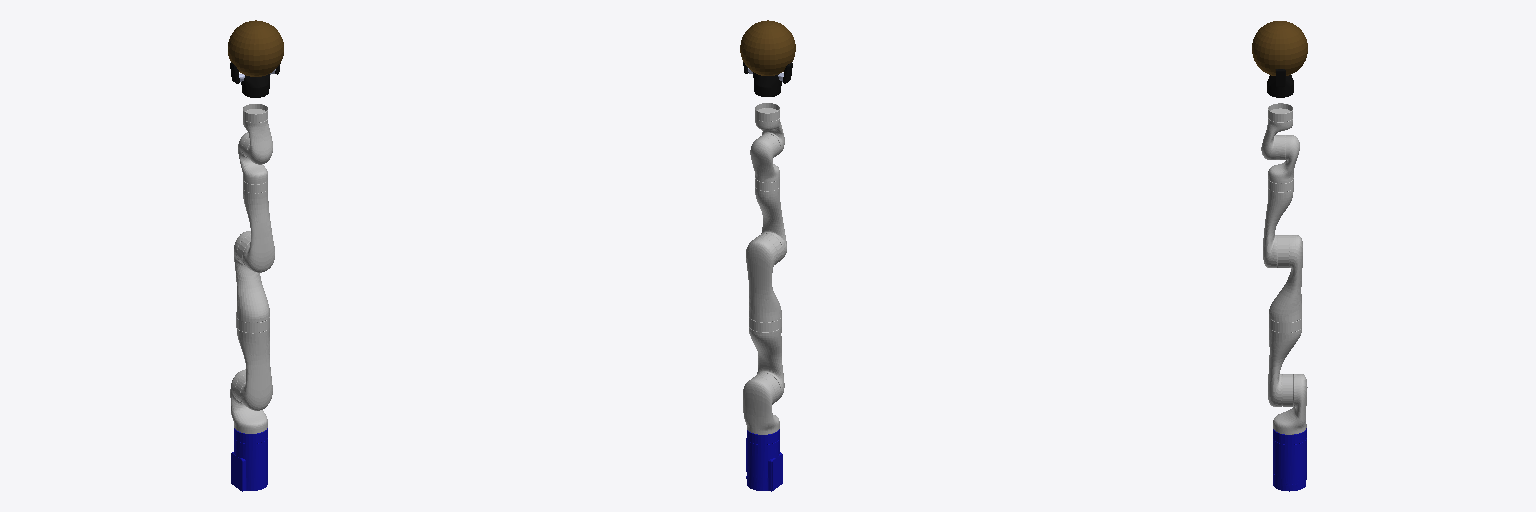
--- Render facts (derived) ---
The picture shows the robot from 3 angles, left to right: view 1: azimuth 30°, elevation 25°; view 2: azimuth 150°, elevation 25°; view 3: azimuth 270°, elevation 25°; orthographic projection.
Model gen3_robotiq_2f_85 with 27 links and 26 joints (7 revolute, 19 fixed), rooted at world, posed all joints at 0.
Links seen in each view (by area): view 1: half_arm_1_link, can, forearm_link, base_link, half_arm_2_link, spherical_wrist_2_link, shoulder_link, spherical_wrist_1_link, robotiq_arg2f_base_link; view 2: half_arm_2_link, can, base_link, shoulder_link, half_arm_1_link, forearm_link, spherical_wrist_1_link, spherical_wrist_2_link, robotiq_arg2f_base_link; view 3: can, half_arm_2_link, base_link, half_arm_1_link, shoulder_link, forearm_link, spherical_wrist_1_link, spherical_wrist_2_link.
Boxes of the visible links, bbox=[...] form: half_arm_1_link: bbox=[236, 316, 272, 410]; can: bbox=[228, 20, 283, 76]; forearm_link: bbox=[243, 181, 274, 272]; base_link: bbox=[231, 428, 267, 491]; half_arm_2_link: bbox=[234, 231, 269, 322]; spherical_wrist_2_link: bbox=[243, 104, 272, 164]; shoulder_link: bbox=[230, 369, 267, 433]; spherical_wrist_1_link: bbox=[238, 132, 267, 184]; robotiq_arg2f_base_link: bbox=[241, 74, 269, 97]; half_arm_2_link: bbox=[746, 233, 782, 322]; can: bbox=[740, 20, 795, 75]; base_link: bbox=[746, 429, 782, 491]; shoulder_link: bbox=[743, 373, 780, 434]; half_arm_1_link: bbox=[749, 317, 784, 398]; forearm_link: bbox=[755, 178, 786, 261]; spherical_wrist_1_link: bbox=[750, 134, 780, 182]; spherical_wrist_2_link: bbox=[755, 103, 784, 154]; robotiq_arg2f_base_link: bbox=[753, 72, 781, 96]; can: bbox=[1252, 21, 1307, 75]; half_arm_2_link: bbox=[1269, 235, 1302, 322]; base_link: bbox=[1273, 428, 1306, 491]; half_arm_1_link: bbox=[1268, 318, 1301, 406]; shoulder_link: bbox=[1273, 374, 1307, 434]; forearm_link: bbox=[1263, 178, 1293, 267]; spherical_wrist_1_link: bbox=[1268, 135, 1299, 183]; spherical_wrist_2_link: bbox=[1261, 103, 1292, 159].
Bounding box of the posed robot: 0.155 × 0.155 × 1.4 m (x, y, z).
Meshes: 13 distinct files referenced, 16 mesh visuals loaded (12 OBJ); not drawn: 1 (reference not matched to a file when rendering).

URDF robot description (gen3_robotiq_2f_85):
<?xml version="1.0" encoding="utf-8"?>
<!-- =================================================================================== -->
<!-- |    This document was autogenerated by xacro from gen3_robotiq_2f_85.xacro       | -->
<!-- |    EDITING THIS FILE BY HAND IS NOT RECOMMENDED                                 | -->
<!-- =================================================================================== -->
<robot name="gen3_robotiq_2f_85">
  <!-- Run the macros -->
  <link name="world"/>

  <link name="obstacles">
    <collision name="wall">
      <origin rpy="0 0 0" xyz="0.735 0.25 0.16"/>
      <geometry><box size="0.05 2.535 1.76"/></geometry>
    </collision>

    <collision name="table">
      <origin rpy="0 0 0" xyz="-0.29 -0.0275 -0.02"/>
      <geometry><box size="0.76 1.525 0.04"/></geometry>
    </collision>

    <collision name="table_leg_bl">
      <origin rpy="0 0 0" xyz="-0.59 0.67 -0.37"/>
      <geometry>
        <cylinder length='0.7' radius='0.02'/>
      </geometry>
    </collision>

    <collision name="table_leg_br">
      <origin rpy="0 0 0" xyz="-0.59 -0.725 -0.37"/>
      <geometry>
        <cylinder length='0.7' radius='0.02'/>
      </geometry>
    </collision>

    <collision name="table_leg_fl">
      <origin rpy="0 0 0" xyz="0.0 0.67 -0.37"/>
      <geometry>
        <cylinder length='0.7' radius='0.02'/>
      </geometry>
    </collision>

    <collision name="table_leg_fr">
      <origin rpy="0 0 0" xyz="0.0 -0.725 -0.37"/>
      <geometry>
        <cylinder length='0.7' radius='0.02'/>
      </geometry>
    </collision>

    <collision name="desk">
      <origin rpy="0 0 0" xyz="0.4 1.055 -0.36"/>
      <geometry><box size="0.62 1.25 0.72"/></geometry>
    </collision>

    <collision name="vice">
      <origin rpy="0 0 0" xyz="0 0 0.009"/>
      <geometry>
        <cylinder length='0.018' radius='0.0725'/>
      </geometry>
    </collision>

    <collision name="cab_back">
      <origin rpy="0 0 0" xyz="0.69 -0.6425 0.11"/>
      <geometry><box size="0.04 0.915 1.66"/></geometry>
    </collision>

    <collision name="cab_left">
      <origin rpy="0 0 0" xyz="0.52 -0.1975 0.11"/>
      <geometry><box size="0.38 0.025 1.66"/></geometry>
    </collision>

    <collision name="cab_right">
      <origin rpy="0 0 0" xyz="0.52 -1.0875 0.11"/>
      <geometry><box size="0.38 0.025 1.66"/></geometry>
    </collision>

    <collision name="cab_top">
      <origin rpy="0 0 0" xyz="0.52 -0.6425 0.9275"/>
      <geometry><box size="0.38 0.915 0.025"/></geometry>
    </collision>

    <collision name="shelf_1">
      <origin rpy="0 0 0" xyz="0.53 -0.6425 0.6375"/>
      <geometry><box size="0.36 0.915 0.025"/></geometry>
    </collision>

    <collision name="shelf_2">
      <origin rpy="0 0 0" xyz="0.53 -0.6425 0.3375"/>
      <geometry><box size="0.36 0.915 0.025"/></geometry>
    </collision>

    <collision name="shelf_3">
      <origin rpy="0 0 0" xyz="0.53 -0.6425 0.0375"/>
      <geometry><box size="0.36 0.915 0.025"/></geometry>
    </collision>

    <collision name="shelf_4">
      <origin rpy="0 0 0" xyz="0.53 -0.6425 -0.2625"/>
      <geometry><box size="0.36 0.915 0.025"/></geometry>
    </collision>

    <collision name="cab_bottom">
      <origin rpy="0 0 0" xyz="0.52 -0.6425 -0.7"/>
      <geometry><box size="0.38 0.915 0.04"/></geometry>
    </collision>
  </link>

  <joint name="world_to_obstacles" type="fixed">
    <parent link="world"/>
    <child link="obstacles"/>
    <origin xyz="0 0 0" rpy="0 0 0"/>
  </joint>

  <link name="base_link">
    <inertial>
      <origin rpy="0 0 0" xyz="-0.000648 -0.000166 0.084487"/>
      <mass value="1.697"/>
      <inertia ixx="0.004622" ixy="9E-06" ixz="6E-05" iyy="0.004495" iyz="9E-06" izz="0.002079"/>
    </inertial>
    <visual>
      <origin rpy="0 0 0" xyz="0 0 0"/>
      <geometry>
        <mesh filename="./meshes/base_link.obj"/>
      </geometry>
      <material name="a">
        <color rgba="0.1 0.1 0.7 1"/>
      </material>
    </visual>
    <collision>
      <origin rpy="0 0 0" xyz="0 0 0"/>
      <geometry>
        <mesh filename="./meshes/base_link.obj"/>
      </geometry>
    </collision>
  </link>

  <joint name="world_to_base" type="fixed">
    <parent link="world"/>
    <child link="base_link"/>
    <origin xyz="0 0 0.02" rpy="0 0 0"/>
  </joint>

  <link name="shoulder_link">
    <inertial>
      <origin rpy="0 0 0" xyz="-2.3E-05 -0.010364 -0.07336"/>
      <mass value="1.3773"/>
      <inertia ixx="0.00457" ixy="1E-06" ixz="2E-06" iyy="0.004831" iyz="0.000448" izz="0.001409"/>
    </inertial>
    <visual>
      <origin rpy="0 0 0" xyz="0 0 0"/>
      <geometry>
        <mesh filename="./meshes/shoulder_link.obj"/>
      </geometry>
      <material name="b">
        <color rgba="0.752 0.752 0.75294 1"/>
      </material>
    </visual>
    <collision>
      <origin rpy="0 0 0" xyz="0 0 0"/>
      <geometry>
        <mesh filename="./meshes/shoulder_link.obj"/>
      </geometry>
    </collision>
  </link>
  <joint name="joint_1" type="revolute">
    <origin rpy="3.1416 2.7629E-18 -4.9305E-36" xyz="0 0 0.15643"/>
    <parent link="base_link"/>
    <child link="shoulder_link"/>
    <axis xyz="0 0 1"/>
    <limit effort="39" velocity="1.3963" lower="-3.1415" upper="3.1415"/>
  </joint>
  <link name="half_arm_1_link">
    <inertial>
      <origin rpy="0 0 0" xyz="-4.4E-05 -0.09958 -0.013278"/>
      <mass value="1.1636"/>
      <inertia ixx="0.011088" ixy="5E-06" ixz="0" iyy="0.001072" iyz="-0.000691" izz="0.011255"/>
    </inertial>
    <visual>
      <origin rpy="0 0 0" xyz="0 0 0"/>
      <geometry>
        <mesh filename="./meshes/half_arm_1_link.obj"/>
      </geometry>
      <material name="c">
        <color rgba="0.75294 0.75294 0.75294 1"/>
      </material>
    </visual>
    <collision>
      <origin rpy="0 0 0" xyz="0 0 0"/>
      <geometry>
        <mesh filename="./meshes/half_arm_1_link.obj"/>
      </geometry>
    </collision>
  </link>
  <joint name="joint_2" type="revolute">
    <origin rpy="1.5708 2.1343E-17 -1.1102E-16" xyz="0 0.005375 -0.12838"/>
    <parent link="shoulder_link"/>
    <child link="half_arm_1_link"/>
    <axis xyz="0 0 1"/>
    <limit effort="39" velocity="1.3963" lower="-2.24973" upper="2.24973"/>
  </joint>
  <link name="half_arm_2_link">
    <inertial>
      <origin rpy="0 0 0" xyz="-4.4E-05 -0.006641 -0.117892"/>
      <mass value="1.1636"/>
      <inertia ixx="0.010932" ixy="0" ixz="-7E-06" iyy="0.011127" iyz="0.000606" izz="0.001043"/>
    </inertial>
    <visual>
      <origin rpy="0 0 0" xyz="0 0 0"/>
      <geometry>
        <mesh filename="./meshes/half_arm_2_link.obj"/>
      </geometry>
      <material name="d">
        <color rgba="0.75294 0.75294 0.75294 1"/>
      </material>
    </visual>
    <collision>
      <origin rpy="0 0 0" xyz="0 0 0"/>
      <geometry>
        <mesh filename="./meshes/half_arm_2_link.obj"/>
      </geometry>
    </collision>
  </link>
  <joint name="joint_3" type="revolute">
    <origin rpy="-1.5708 1.2326E-32 -2.9122E-16" xyz="0 -0.21038 -0.006375"/>
    <parent link="half_arm_1_link"/>
    <child link="half_arm_2_link"/>
    <axis xyz="0 0 1"/>
    <limit effort="39" velocity="1.3963" lower="-3.1415" upper="3.1415"/>
  </joint>
  <link name="forearm_link">
    <inertial>
      <origin rpy="0 0 0" xyz="-1.8E-05 -0.075478 -0.015006"/>
      <mass value="0.9302"/>
      <inertia ixx="0.008147" ixy="-1E-06" ixz="0" iyy="0.000631" iyz="-0.0005" izz="0.008316"/>
    </inertial>
    <visual>
      <origin rpy="0 0 0" xyz="0 0 0"/>
      <geometry>
        <mesh filename="./meshes/forearm_link.obj"/>
      </geometry>
      <material name="e">
        <color rgba="0.75294 0.75294 0.75294 1"/>
      </material>
    </visual>
    <collision>
      <origin rpy="0 0 0" xyz="0 0 0"/>
      <geometry>
        <mesh filename="./meshes/forearm_link.obj"/>
      </geometry>
    </collision>
  </link>
  <joint name="joint_4" type="revolute">
    <origin rpy="1.5708 -6.6954E-17 -1.6653E-16" xyz="0 0.006375 -0.21038"/>
    <parent link="half_arm_2_link"/>
    <child link="forearm_link"/>
    <axis xyz="0 0 1"/>
    <limit effort="39" velocity="1.3963" lower="-2.5796" upper ="2.5796"/>
  </joint>
  <link name="spherical_wrist_1_link">
    <inertial>
      <origin rpy="0 0 0" xyz="1E-06 -0.009432 -0.063883"/>
      <mass value="0.6781"/>
      <inertia ixx="0.001596" ixy="0" ixz="0" iyy="0.001607" iyz="0.000256" izz="0.000399"/>
    </inertial>
    <visual>
      <origin rpy="0 0 0" xyz="0 0 0"/>
      <geometry>
        <mesh filename="./meshes/spherical_wrist_1_link.obj"/>
      </geometry>
      <material name="f">
        <color rgba="0.75294 0.75294 0.75294 1"/>
      </material>
    </visual>
    <collision>
      <origin rpy="0 0 0" xyz="0 0 0"/>
      <geometry>
        <mesh filename="./meshes/spherical_wrist_1_link.obj"/>
      </geometry>
    </collision>
  </link>
  <joint name="joint_5" type="revolute">
    <origin rpy="-1.5708 2.2204E-16 -6.373E-17" xyz="0 -0.20843 -0.006375"/>
    <parent link="forearm_link"/>
    <child link="spherical_wrist_1_link"/>
    <axis xyz="0 0 1"/>
    <limit effort="9" velocity="1.2218" lower="-3.1415" upper="3.1415"/>
  </joint>
  <link name="spherical_wrist_2_link">
    <inertial>
      <origin rpy="0 0 0" xyz="1E-06 -0.045483 -0.00965"/>
      <mass value="0.6781"/>
      <inertia ixx="0.001641" ixy="0" ixz="0" iyy="0.00041" iyz="-0.000278" izz="0.001641"/>
    </inertial>
    <visual>
      <origin rpy="0 0 0" xyz="0 0 0"/>
      <geometry>
        <mesh filename="./meshes/spherical_wrist_2_link.obj"/>
      </geometry>
      <material name="g">
        <color rgba="0.75294 0.75294 0.75294 1"/>
      </material>
    </visual>
    <collision>
      <origin rpy="0 0 0" xyz="0 0 0"/>
      <geometry>
        <mesh filename="./meshes/spherical_wrist_2_link.obj"/>
      </geometry>
    </collision>
  </link>
  <joint name="joint_6" type="revolute">
    <origin rpy="1.5708 9.2076E-28 -8.2157E-15" xyz="0 0.00017505 -0.10593"/>
    <parent link="spherical_wrist_1_link"/>
    <child link="spherical_wrist_2_link"/>
    <axis xyz="0 0 1"/>
    <limit effort="9" velocity="1.2218" lower="-2.0996" upper="2.0996"/>
  </joint>
  <link name="bracelet_link">
    <inertial>
      <origin rpy="0 0 0" xyz="0.000281 0.011402 -0.029798"/>
      <mass value="0.5"/>
      <inertia ixx="0.000587" ixy="3E-06" ixz="3E-06" iyy="0.000369" iyz="-0.000118" izz="0.000609"/>
    </inertial>
    <visual>
      <origin rpy="0 0 0" xyz="0 0 0"/>
      <geometry>
        <mesh filename="./meshes/bracelet_with_vision_link.obj"/>
      </geometry>
      <material name="h">
        <color rgba="0.75294 0.75294 0.75294 1"/>
      </material>
    </visual>
    <collision>
      <origin rpy="0 0 0" xyz="0 0 0"/>
      <geometry>
        <mesh filename="./meshes/bracelet_with_vision_link.obj"/>
      </geometry>
    </collision>
  </link>
  <joint name="joint_7" type="revolute">
    <origin rpy="-1.5708 -5.5511E-17 9.6396E-17" xyz="0 -0.10593 -0.00017505"/>
    <parent link="spherical_wrist_2_link"/>
    <child link="bracelet_link"/>
    <axis xyz="0 0 1"/>
    <limit effort="9" velocity="1.2218" lower="-3.1415" upper="3.1415"/>
  </joint>
  <link name="end_effector_link"/>
  <joint name="end_effector" type="fixed">
    <origin rpy="3.14159265358979 1.09937075168372E-32 0" xyz="0 0 -0.0615250000000001"/>
    <parent link="bracelet_link"/>
    <child link="end_effector_link"/>
    <axis xyz="0 0 0"/>
  </joint>
  <link name="camera_link"/>
  <joint name="camera_module" type="fixed">
    <origin rpy="3.14159265358979 3.14159265358979 0" xyz="0 0.05639 -0.00305"/>
    <parent link="end_effector_link"/>
    <child link="camera_link"/>
  </joint>
  <link name="camera_depth_frame"/>
  <joint name="depth_module" type="fixed">
    <origin rpy="3.14159265358979 3.14159265358979 0" xyz="0.0275 0.066 -0.00305"/>
    <parent link="end_effector_link"/>
    <child link="camera_depth_frame"/>
  </joint>
  <link name="camera_color_frame"/>
  <joint name="color_module" type="fixed">
    <origin rpy="3.14159265358979 3.14159265358979 0" xyz="0 0.05639 -0.00305"/>
    <parent link="end_effector_link"/>
    <child link="camera_color_frame"/>
  </joint>
  <!-- This line was removed by Kinova because we replaced the transmission file with our own 
    <xacro:include filename="$(find robotiq_2f_85_gripper_visualization)/urdf/robotiq_arg2f_transmission.xacro" /> -->
  <!-- Tool frame used by the arm -->
  <link name="tool_frame"/>
  <joint name="tool_frame_joint" type="fixed">
    <origin rpy="0 0 0" xyz="0 0 0.120"/>
    <parent link="end_effector_link"/>
    <child link="tool_frame"/>
    <axis xyz="0 0 0"/>
  </joint>
  <!-- This joint was added by Kinova -->
  <joint name="gripper_base_joint" type="fixed">
    <parent link="end_effector_link"/>
    <child link="robotiq_arg2f_base_link"/>
    <origin rpy="0.0 0.0 1.57" xyz="0.0 0.0 0.0"/>
  </joint>
  <link name="robotiq_arg2f_base_link">
    <inertial>
      <origin rpy="0 0 0" xyz="8.625E-08 -4.6583E-06 0.03145"/>
      <mass value="0.22652"/>
      <inertia ixx="0.00020005" ixy="-4.2442E-10" ixz="-2.9069E-10" iyy="0.00017832" iyz="-3.4402E-08" izz="0.00013478"/>
    </inertial>
    <visual>
      <origin rpy="0 0 0" xyz="0 0 0"/>
      <geometry>
        <!-- The OBJ file doesn't show well in Gazebo so we're using the obj instead -->
        <!-- <mesh filename="./meshes/visual/robotiq_arg2f_85_base_link.obj" scale="0.001 0.001 0.001"/> -->
        <mesh filename="./meshes/collision/robotiq_arg2f_base_link.obj"/>
      </geometry>
      <material name="i">
        <color rgba="0.1 0.1 0.1 1"/>
      </material>
    </visual>
    <collision>
      <origin rpy="0 0 0" xyz="0 0 0"/>
      <geometry>
        <mesh filename="./meshes/collision/robotiq_arg2f_base_link.obj"/>
      </geometry>
    </collision>
  </link>
  <link name="can">
    <visual>
      <origin rpy="0 0 0" xyz="0 0.02 -0.02"/>
      <geometry>
        <sphere radius='0.0775'/>
      </geometry>
      <material name="brown">
        <color rgba="0.4 0.3 0.15 1"/>
      </material>
    </visual>
    <collision>
      <origin rpy="0 0 0" xyz="0 0.02 -0.02"/>
      <geometry>
        <sphere radius='0.0775'/>
      </geometry>
    </collision>
  </link>
  <!--gazebo reference="robotiq_arg2f_base_link">
    <material>Gazebo/Black</material>
  </gazebo-->
  <link name="left_outer_knuckle">
    <inertial>
      <origin rpy="0 0 0" xyz="-0.000200000000003065 0.0199435877845359 0.0292245259211331"/>
      <mass value="0.00853198276973456"/>
      <inertia ixx="2.89328108496468E-06" ixy="-1.57935047237397E-19" ixz="-1.93980378593255E-19" iyy="1.86719750325683E-06" iyz="-1.21858577871576E-06" izz="1.21905238907251E-06"/>
    </inertial>
    <visual>
      <origin rpy="0 0 0" xyz="0 0 0"/>
      <geometry>
        <mesh filename="./meshes/visual/robotiq_arg2f_85_outer_knuckle.obj" scale="0.001 0.001 0.001"/>
      </geometry>
      <material name="j">
        <color rgba="0.792156862745098 0.819607843137255 0.933333333333333 1"/>
      </material>
    </visual>
    <collision>
      <origin rpy="0 0 0" xyz="0 0 0"/>
      <geometry>
        <mesh filename="./meshes/collision/robotiq_arg2f_85_outer_knuckle.obj" scale="0.001 0.001 0.001"/>
      </geometry>
    </collision>
  </link>
  <link name="left_outer_finger">
    <inertial>
      <origin rpy="0 0 0" xyz="0.00030115855001899 0.0373907951953854 -0.0208027427000385"/>
      <mass value="0.022614240507152"/>
      <inertia ixx="1.52518312458174E-05" ixy="9.76583423954399E-10" ixz="-5.43838577022588E-10" iyy="6.17694243867776E-06" iyz="6.78636130740228E-06" izz="1.16494917907219E-05"/>
    </inertial>
    <visual>
      <origin rpy="0 0 0" xyz="0 0 0"/>
      <geometry>
        <mesh filename="./meshes/visual/robotiq_arg2f_85_outer_finger.obj" scale="0.001 0.001 0.001"/>
      </geometry>
      <material name="k">
        <color rgba="0.1 0.1 0.1 1"/>
      </material>
    </visual>
    <collision>
      <origin rpy="0 0 0" xyz="0 0 0"/>
      <geometry>
        <mesh filename="./meshes/collision/robotiq_arg2f_85_outer_finger.obj" scale="0.001 0.001 0.001"/>
      </geometry>
    </collision>
  </link>
  <link name="left_inner_finger">
    <inertial>
      <origin rpy="0 0 0" xyz="0.000299999999999317 0.0160078233491243 -0.0136945669206257"/>
      <mass value="0.0104003125914103"/>
      <inertia ixx="2.71909453810972E-06" ixy="1.35402465472579E-21" ixz="-7.1817349065269E-22" iyy="7.69100314106116E-07" iyz="6.74715432769696E-07" izz="2.30315190420171E-06"/>
    </inertial>
    <visual>
      <origin rpy="0 0 0" xyz="0 0 0"/>
      <geometry>
        <mesh filename="./meshes/visual/robotiq_arg2f_85_inner_finger.obj" scale="0.001 0.001 0.001"/>
      </geometry>
      <material name="l">
        <color rgba="0.1 0.1 0.1 1"/>
      </material>
    </visual>
    <collision>
      <origin rpy="0 0 0" xyz="0 0 0"/>
      <geometry>
        <mesh filename="./meshes/collision/robotiq_arg2f_85_inner_finger.obj" scale="0.001 0.001 0.001"/>
      </geometry>
    </collision>
  </link>
  <link name="left_inner_finger_pad">
    <visual>
      <origin rpy="0 0 0" xyz="0 0 0"/>
      <geometry>
        <box size="0.022 0.00635 0.0375"/>
      </geometry>
      <material name="m">
        <color rgba="0.9 0.9 0.9 1"/>
      </material>
    </visual>
    <collision>
      <origin rpy="0 0 0" xyz="0 0 0"/>
      <geometry>
        <box size="0.022 0.00635 0.0375"/>
      </geometry>
      <material name="n">
        <color rgba="0.9 0.0 0.0 1"/>
      </material>
    </collision>
  </link>
  <link name="left_inner_knuckle">
    <inertial>
      <origin rpy="0 0 0" xyz="0.000123011831763771 0.0507850843201817 0.00103968640075166"/>
      <mass value="0.0271177346495152"/>
      <inertia ixx="2.61910379223783E-05" ixy="-2.43616858946494E-07" ixz="-6.37789906117123E-09" iyy="2.8270243746167E-06" iyz="-5.37200748039765E-07" izz="2.83695868220296E-05"/>
    </inertial>
    <visual>
      <origin rpy="0 0 0" xyz="0 0 0"/>
      <geometry>
        <mesh filename="./meshes/visual/robotiq_arg2f_85_inner_knuckle.obj" scale="0.001 0.001 0.001"/>
      </geometry>
      <material name="n">
        <color rgba="0.1 0.1 0.1 1"/>
      </material>
    </visual>
    <collision>
      <origin rpy="0 0 0" xyz="0 0 0"/>
      <geometry>
        <mesh filename="./meshes/collision/robotiq_arg2f_85_inner_knuckle.obj" scale="0.001 0.001 0.001"/>
      </geometry>
    </collision>
  </link>
  <link name="right_outer_knuckle">
    <inertial>
      <origin rpy="0 0 0" xyz="-0.000200000000003065 0.0199435877845359 0.0292245259211331"/>
      <mass value="0.00853198276973456"/>
      <inertia ixx="2.89328108496468E-06" ixy="-1.57935047237397E-19" ixz="-1.93980378593255E-19" iyy="1.86719750325683E-06" iyz="-1.21858577871576E-06" izz="1.21905238907251E-06"/>
    </inertial>
    <visual>
      <origin rpy="0 0 0" xyz="0 0 0"/>
      <geometry>
        <mesh filename="./meshes/visual/robotiq_arg2f_85_outer_knuckle.obj" scale="0.001 0.001 0.001"/>
      </geometry>
      <material name="o">
        <color rgba="0.792156862745098 0.819607843137255 0.933333333333333 1"/>
      </material>
    </visual>
    <collision>
      <origin rpy="0 0 0" xyz="0 0 0"/>
      <geometry>
        <mesh filename="./meshes/collision/robotiq_arg2f_85_outer_knuckle.obj" scale="0.001 0.001 0.001"/>
      </geometry>
    </collision>
  </link>
  <link name="right_outer_finger">
    <inertial>
      <origin rpy="0 0 0" xyz="0.00030115855001899 0.0373907951953854 -0.0208027427000385"/>
      <mass value="0.022614240507152"/>
      <inertia ixx="1.52518312458174E-05" ixy="9.76583423954399E-10" ixz="-5.43838577022588E-10" iyy="6.17694243867776E-06" iyz="6.78636130740228E-06" izz="1.16494917907219E-05"/>
    </inertial>
    <visual>
      <origin rpy="0 0 0" xyz="0 0 0"/>
      <geometry>
        <mesh filename="./meshes/visual/robotiq_arg2f_85_outer_finger.obj" scale="0.001 0.001 0.001"/>
      </geometry>
      <material name="p">
        <color rgba="0.1 0.1 0.1 1"/>
      </material>
    </visual>
    <collision>
      <origin rpy="0 0 0" xyz="0 0 0"/>
      <geometry>
        <mesh filename="./meshes/collision/robotiq_arg2f_85_outer_finger.obj" scale="0.001 0.001 0.001"/>
      </geometry>
    </collision>
  </link>
  <link name="right_inner_finger">
    <inertial>
      <origin rpy="0 0 0" xyz="0.000299999999999317 0.0160078233491243 -0.0136945669206257"/>
      <mass value="0.0104003125914103"/>
      <inertia ixx="2.71909453810972E-06" ixy="1.35402465472579E-21" ixz="-7.1817349065269E-22" iyy="7.69100314106116E-07" iyz="6.74715432769696E-07" izz="2.30315190420171E-06"/>
    </inertial>
    <visual>
      <origin rpy="0 0 0" xyz="0 0 0"/>
      <geometry>
        <mesh filename="./meshes/visual/robotiq_arg2f_85_inner_finger.obj" scale="0.001 0.001 0.001"/>
      </geometry>
      <material name="q">
        <color rgba="0.1 0.1 0.1 1"/>
      </material>
    </visual>
    <collision>
      <origin rpy="0 0 0" xyz="0 0 0"/>
      <geometry>
        <mesh filename="./meshes/collision/robotiq_arg2f_85_inner_finger.obj" scale="0.001 0.001 0.001"/>
      </geometry>
    </collision>
  </link>
  <link name="right_inner_finger_pad">
    <visual>
      <origin rpy="0 0 0" xyz="0 0 0"/>
      <geometry>
        <box size="0.022 0.00635 0.0375"/>
      </geometry>
      <material name="r">
        <color rgba="0.9 0.9 0.9 1"/>
      </material>
    </visual>
    <collision>
      <origin rpy="0 0 0" xyz="0 0 0"/>
      <geometry>
        <box size="0.022 0.00635 0.0375"/>
      </geometry>
      <material name="s">
        <color rgba="0.9 0.0 0.0 1"/>
      </material>
    </collision>
  </link>
  <link name="right_inner_knuckle">
    <inertial>
      <origin rpy="0 0 0" xyz="0.000123011831763771 0.0507850843201817 0.00103968640075166"/>
      <mass value="0.0271177346495152"/>
      <inertia ixx="2.61910379223783E-05" ixy="-2.43616858946494E-07" ixz="-6.37789906117123E-09" iyy="2.8270243746167E-06" iyz="-5.37200748039765E-07" izz="2.83695868220296E-05"/>
    </inertial>
    <visual>
      <origin rpy="0 0 0" xyz="0 0 0"/>
      <geometry>
        <mesh filename="./meshes/visual/robotiq_arg2f_85_inner_knuckle.obj" scale="0.001 0.001 0.001"/>
      </geometry>
      <material name="t">
        <color rgba="0.1 0.1 0.1 1"/>
      </material>
    </visual>
    <collision>
      <origin rpy="0 0 0" xyz="0 0 0"/>
      <geometry>
        <mesh filename="./meshes/collision/robotiq_arg2f_85_inner_knuckle.obj" scale="0.001 0.001 0.001"/>
      </geometry>
    </collision>
  </link>
  <joint name="finger_joint" type="fixed">
    <origin rpy="0 0 3.14159265359" xyz="0 -0.0306011 0.054904"/>
    <parent link="robotiq_arg2f_base_link"/>
    <child link="left_outer_knuckle"/>
    <axis xyz="1 0 0"/>
  </joint>
  <joint name="left_outer_finger_joint" type="fixed">
    <origin rpy="0 0 0" xyz="0 0.0315 -0.0041"/>
    <parent link="left_outer_knuckle"/>
    <child link="left_outer_finger"/>
    <axis xyz="1 0 0"/>
  </joint>
  <joint name="left_inner_knuckle_joint" type="fixed">
    <!-- <origin xyz="0 ${reflect * -0.0127} 0.06142" rpy="${pi / 2 + .725} 0 ${(reflect - 1) * pi / 2}" /> -->
    <origin rpy="0 0 3.14159265359" xyz="0 -0.0127 0.06142"/>
    <parent link="robotiq_arg2f_base_link"/>
    <child link="left_inner_knuckle"/>
    <axis xyz="1 0 0"/>
  </joint>
  <joint name="left_inner_finger_joint" type="fixed">
    <origin rpy="0 0 0" xyz="0 0.0061 0.0471"/>
    <parent link="left_outer_finger"/>
    <child link="left_inner_finger"/>
    <axis xyz="1 0 0"/>
  </joint>
  <joint name="left_inner_finger_pad_joint" type="fixed">
    <origin rpy="0 0 0" xyz="0 -0.0220203446692936 0.03242"/>
    <parent link="left_inner_finger"/>
    <child link="left_inner_finger_pad"/>
    <axis xyz="0 0 1"/>
  </joint>
  <joint name="right_outer_knuckle_joint" type="fixed">
    <origin rpy="0 0 0" xyz="0 0.0306011 0.054904"/>
    <parent link="robotiq_arg2f_base_link"/>
    <child link="right_outer_knuckle"/>
    <axis xyz="1 0 0"/>
  </joint>
  <joint name="right_outer_finger_joint" type="fixed">
    <origin rpy="0 0 0" xyz="0 0.0315 -0.0041"/>
    <parent link="right_outer_knuckle"/>
    <child link="right_outer_finger"/>
    <axis xyz="1 0 0"/>
  </joint>
  <joint name="right_inner_knuckle_joint" type="fixed">
    <!-- <origin xyz="0 ${reflect * -0.0127} 0.06142" rpy="${pi / 2 + .725} 0 ${(reflect - 1) * pi / 2}" /> -->
    <origin rpy="0 0 0.0" xyz="0 0.0127 0.06142"/>
    <parent link="robotiq_arg2f_base_link"/>
    <child link="right_inner_knuckle"/>
    <axis xyz="1 0 0"/>
  </joint>
  <joint name="right_inner_finger_joint" type="fixed">
    <origin rpy="0 0 0" xyz="0 0.0061 0.0471"/>
    <parent link="right_outer_finger"/>
    <child link="right_inner_finger"/>
    <axis xyz="1 0 0"/>
  </joint>
  <joint name="right_inner_finger_pad_joint" type="fixed">
    <origin rpy="0 0 0" xyz="0 -0.0220203446692936 0.03242"/>
    <parent link="right_inner_finger"/>
    <child link="right_inner_finger_pad"/>
    <axis xyz="0 0 1"/>
  </joint>
  <joint name="can_weld" type="fixed">
    <origin rpy="0 0 0" xyz="0 -0.0220203446692936 0.03242"/>
    <parent link="tool_frame"/>
    <child link="can"/>
    <axis xyz="0 0 1"/>
  </joint>
  <!-- Transmissions are loaded in the generic kortex xacro when simulation is enabled -->
  <!-- <xacro:robotiq_arg2f_transmission prefix="${prefix}"/> -->
</robot>
